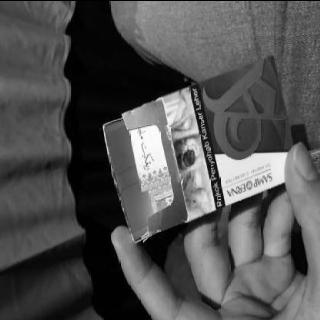objects: (104, 55, 294, 242)
